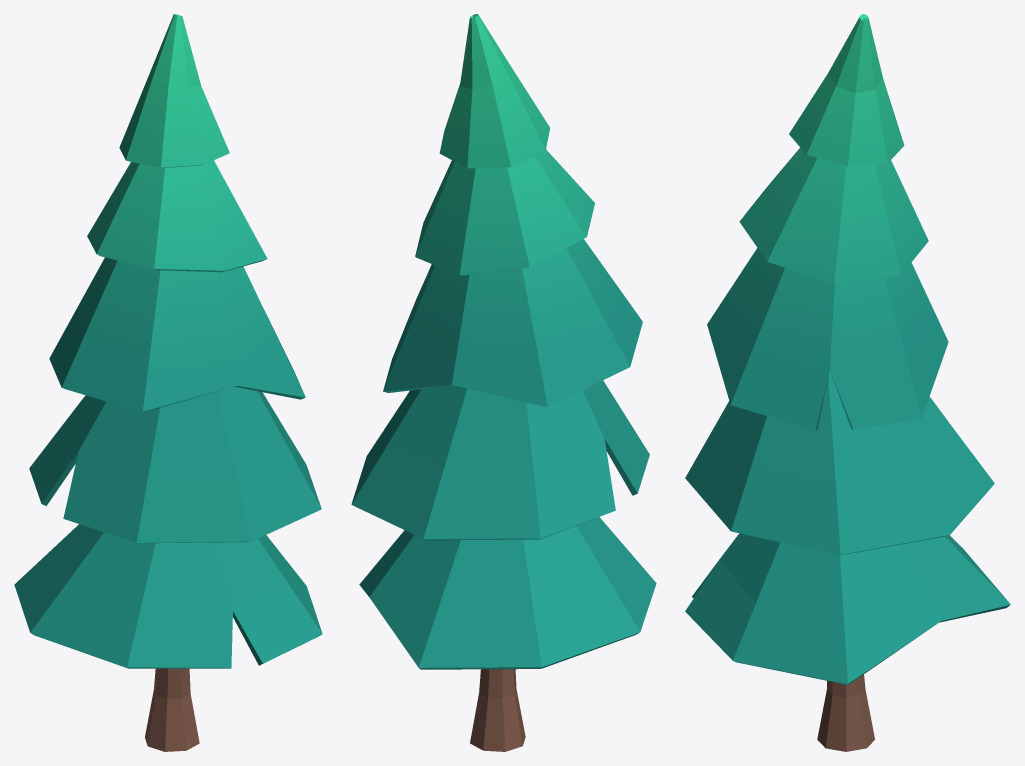
Rendered from tree01.obj.
3 renders of one model, left to right at view 1: azimuth 30°, elevation 25°; view 2: azimuth 150°, elevation 25°; view 3: azimuth 270°, elevation 25°, orthographic. The views are drawn at different scales.
Visible parts, largest first — view 1: Cylinder.014_Cylinder.033; view 2: Cylinder.014_Cylinder.033; view 3: Cylinder.014_Cylinder.033.
Part boxes in pixels (x1=…): Cylinder.014_Cylinder.033: x1=14, y1=14, x2=322, y2=751; Cylinder.014_Cylinder.033: x1=351, y1=14, x2=656, y2=751; Cylinder.014_Cylinder.033: x1=685, y1=14, x2=1010, y2=751.
Bounding box in the file's own units: 5.48 × 13.58 × 5.49.
